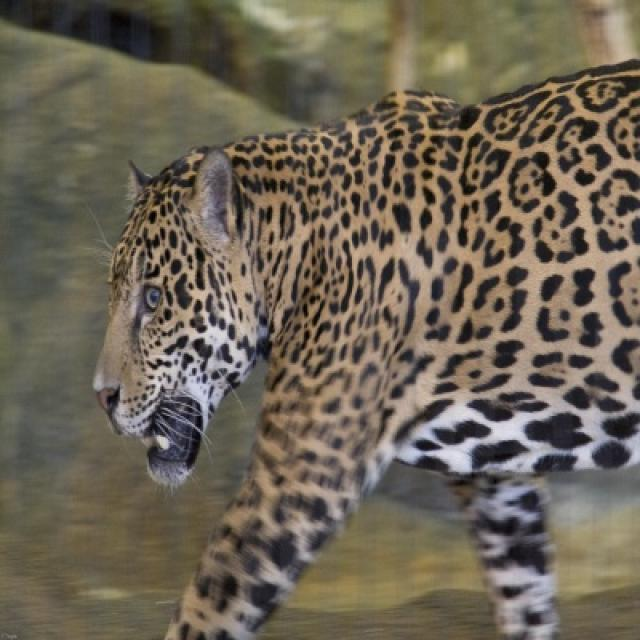Jaguar: (90, 59, 638, 638)
